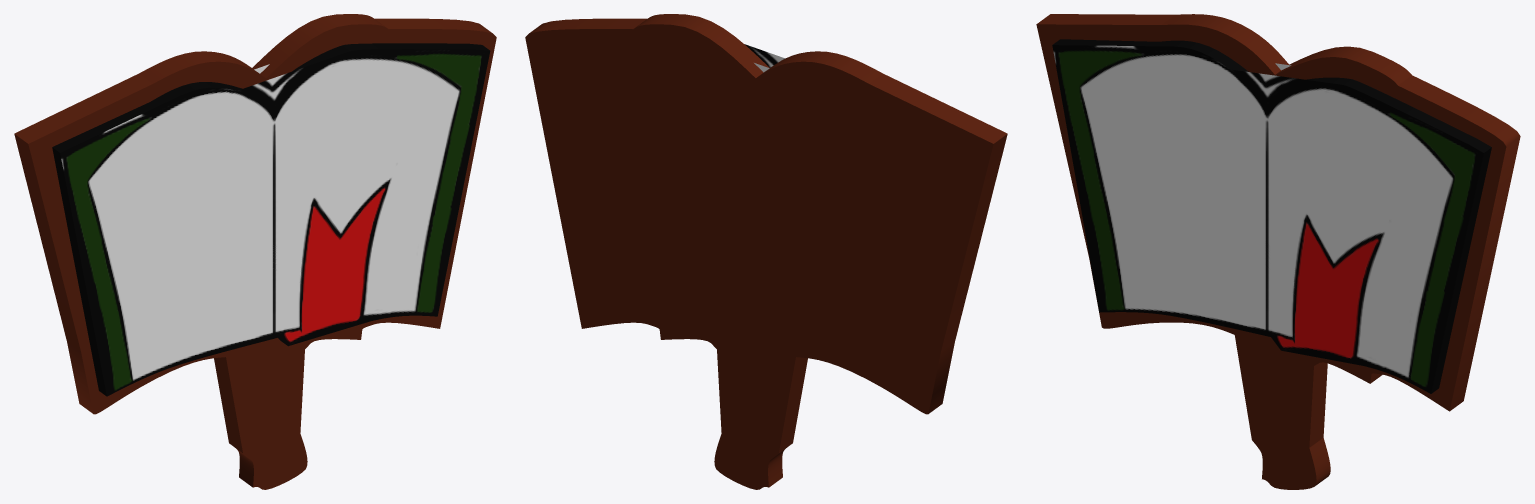
Rendered from Llibre.FBX.
3 renders of one model, left to right at view 1: azimuth 30°, elevation 25°; view 2: azimuth 150°, elevation 25°; view 3: azimuth 330°, elevation 25°, orthographic.
Parts seen in each view (by area): view 1: Line004, Line003; view 2: Line003; view 3: Line004, Line003.
Boxes of the visible parts, x1,y1,x2,y2 form: Line004: (52,43,490,396); Line003: (14,14,496,489); Line003: (525,14,1007,489); Line004: (1052,39,1491,393); Line003: (1036,14,1520,489).
Size of the model in its own units: 86.08 by 78.23 by 7.04.
2 materials, 1 textured.
